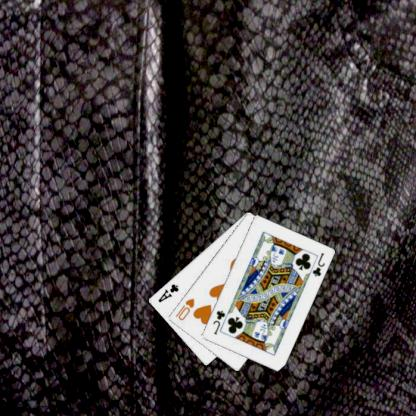10H: (174, 296, 197, 322)
AC: (157, 281, 182, 304)
JC: (311, 250, 328, 278), (212, 308, 228, 336)
